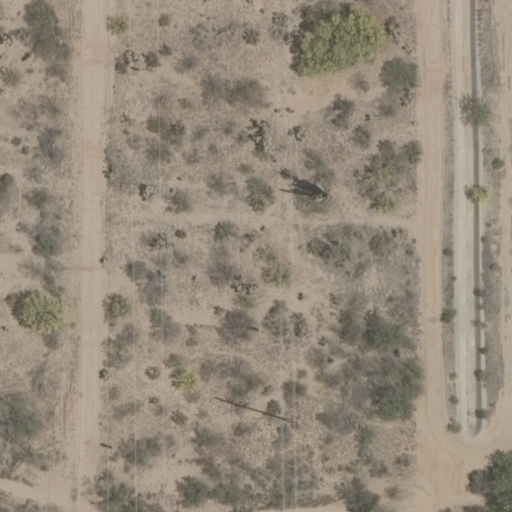DT: (276, 411, 312, 432)
